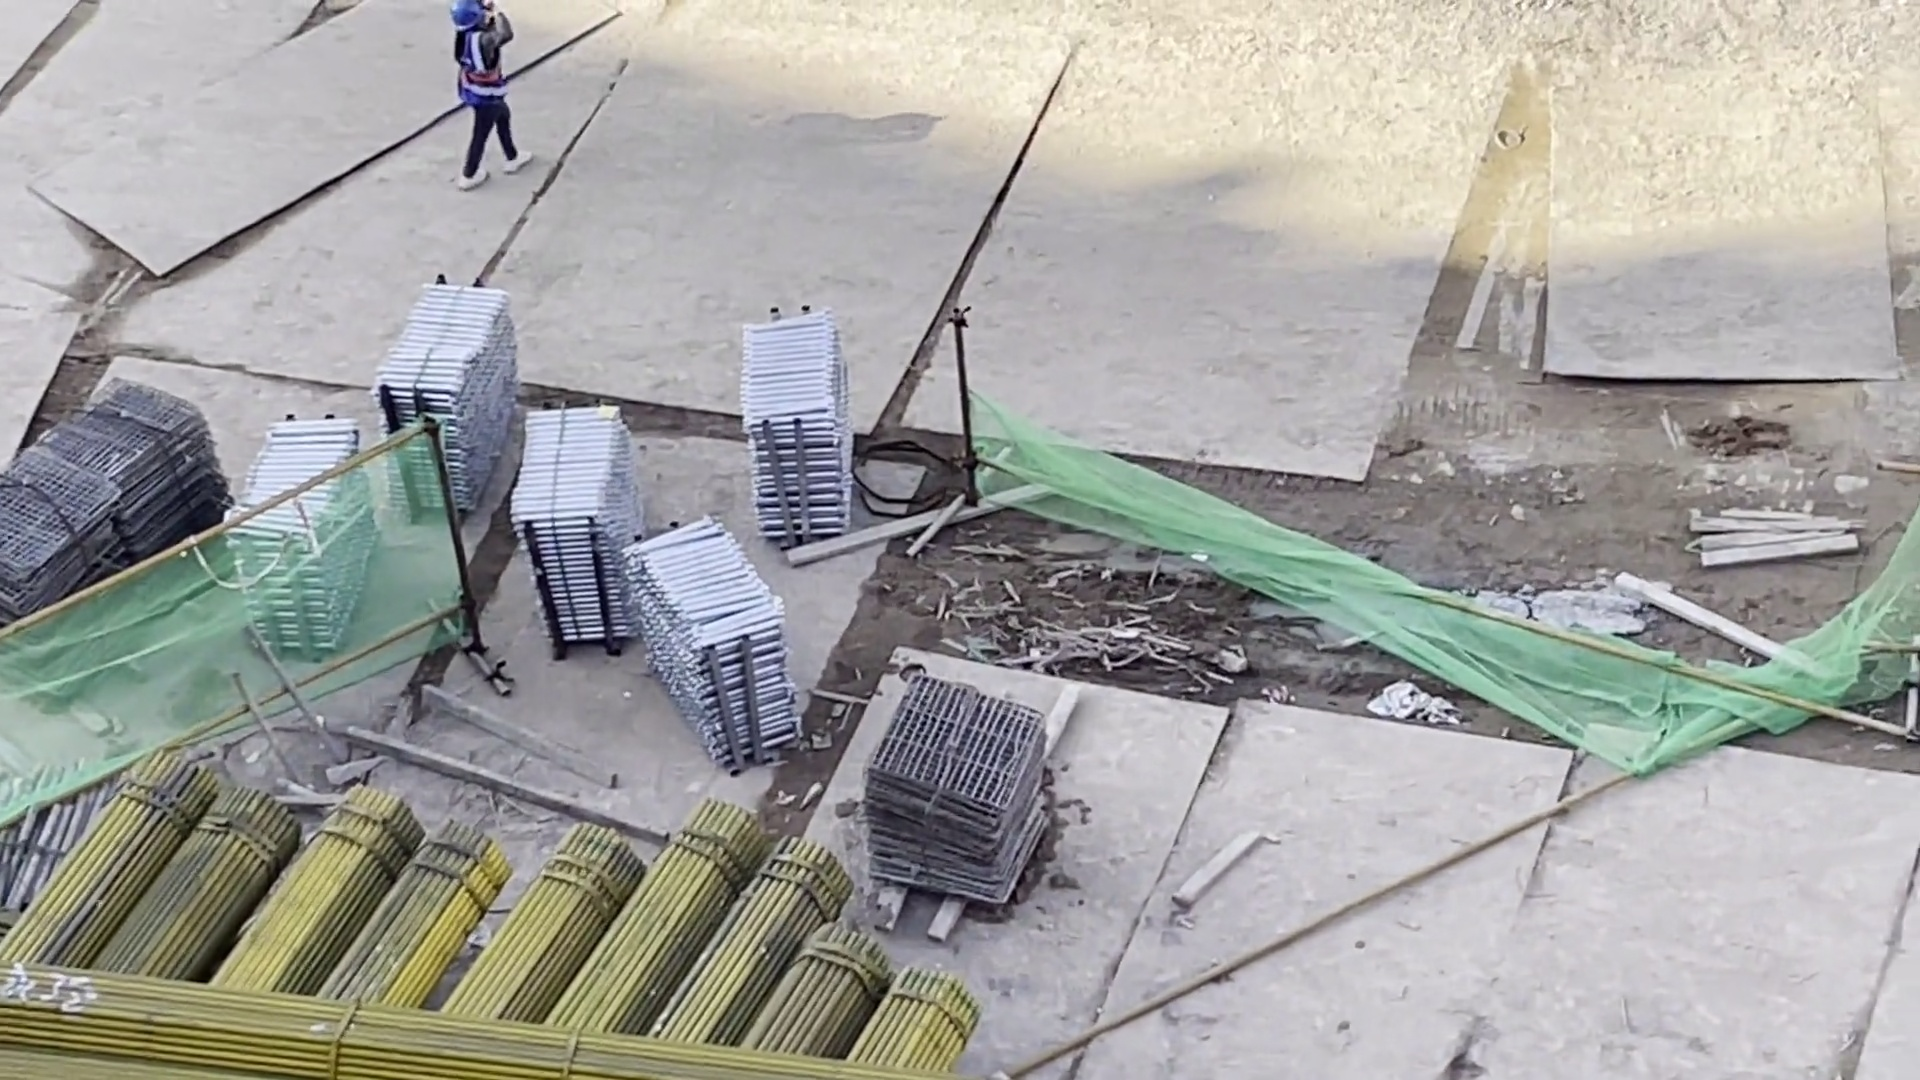helmet: (447, 1, 486, 31)
person: (443, 1, 541, 172)
scaffold: (632, 532, 805, 750), (501, 394, 634, 640), (233, 402, 368, 635), (733, 308, 862, 549), (376, 270, 507, 505)
vest: (454, 30, 518, 111)
